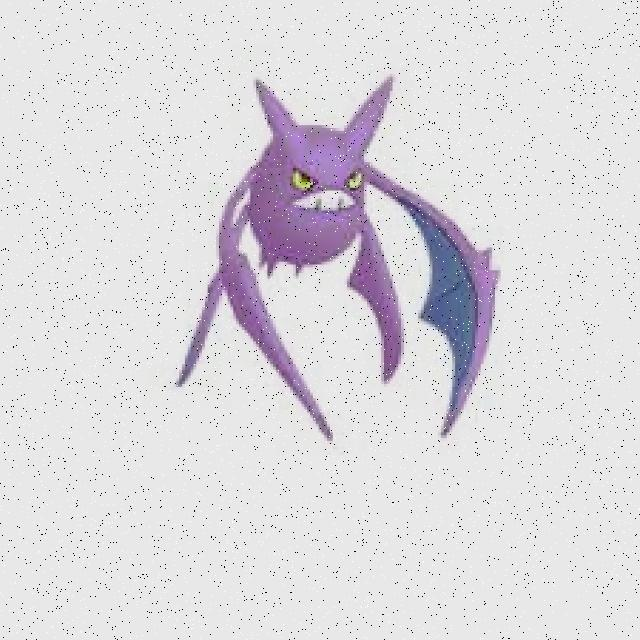crobat: (157, 73, 503, 444)
